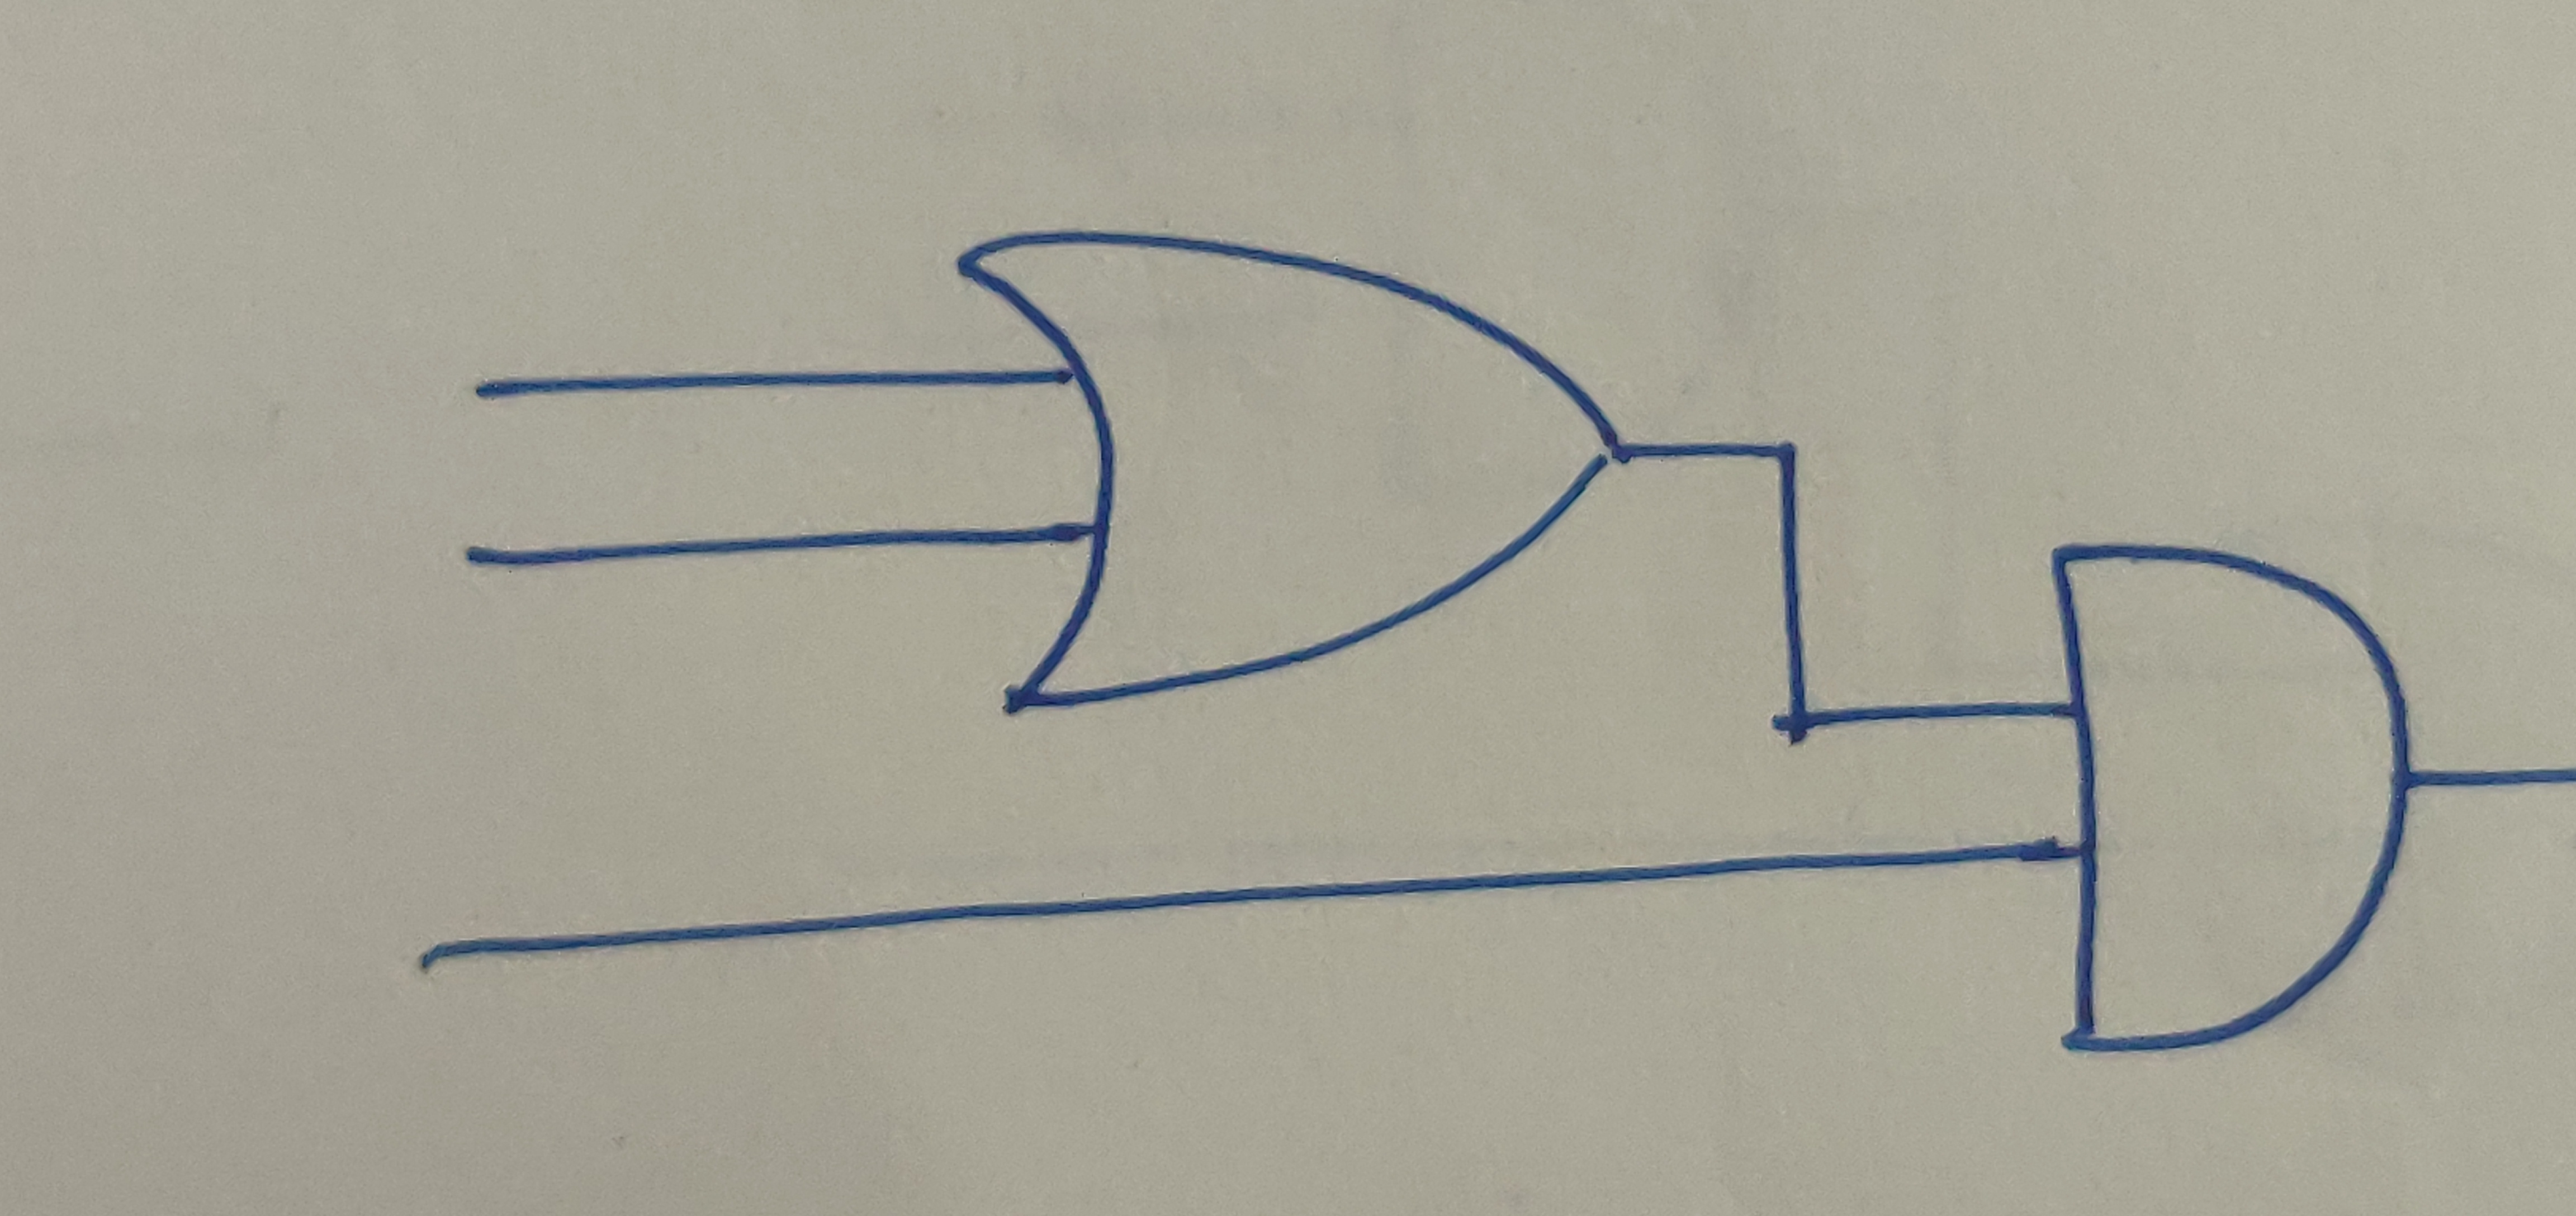and: (2040, 542, 2415, 1062)
or: (950, 230, 1633, 716)
